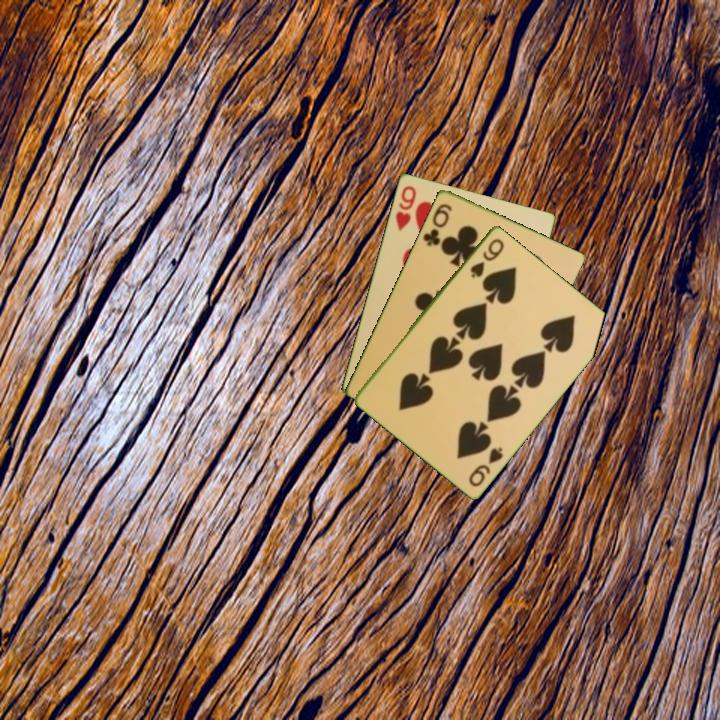6c: (419, 199, 455, 249)
9h: (392, 182, 419, 233)
9s: (465, 443, 506, 490), (466, 235, 507, 280)
